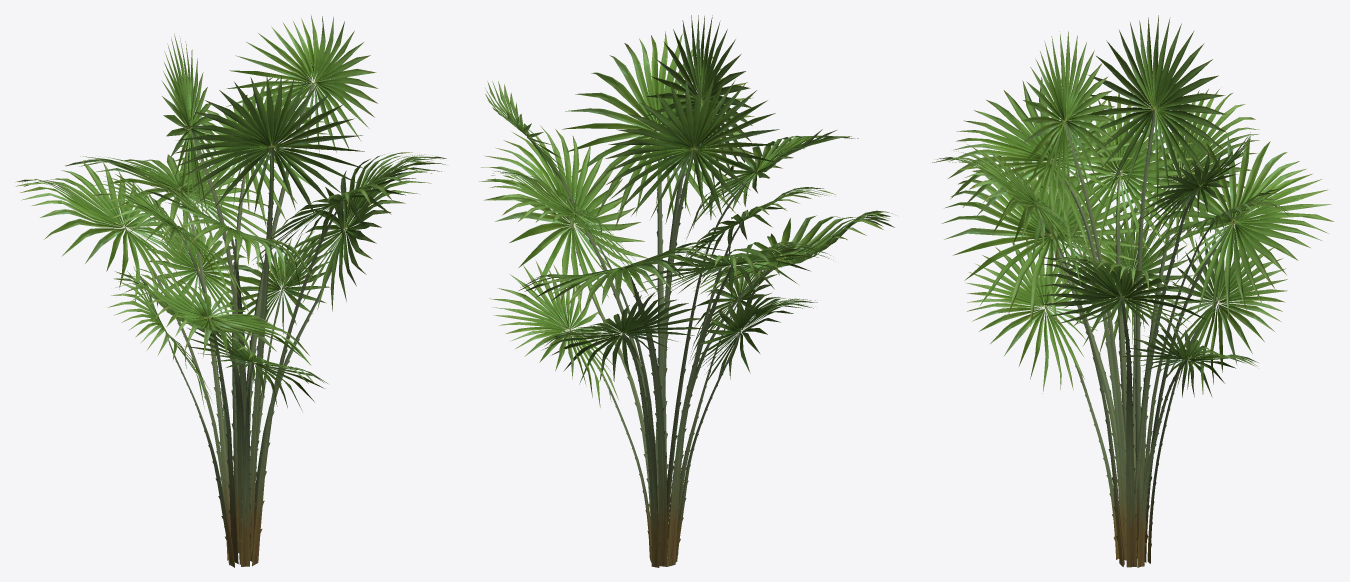
File: Palm.FBX
The picture shows the model from 3 angles, left to right: view 1: azimuth 30°, elevation 25°; view 2: azimuth 150°, elevation 25°; view 3: azimuth 270°, elevation 25°; orthographic projection.
Parts seen in each view (by area): view 1: Palm_Leaf; view 2: Palm_Leaf; view 3: Palm_Leaf.
Part boxes in pixels (x1=…): Palm_Leaf: x1=15, y1=15, x2=446, y2=567; Palm_Leaf: x1=479, y1=15, x2=894, y2=567; Palm_Leaf: x1=932, y1=15, x2=1334, y2=567.
Size of the model in its own units: 1.52 by 1.45 by 2.05.
